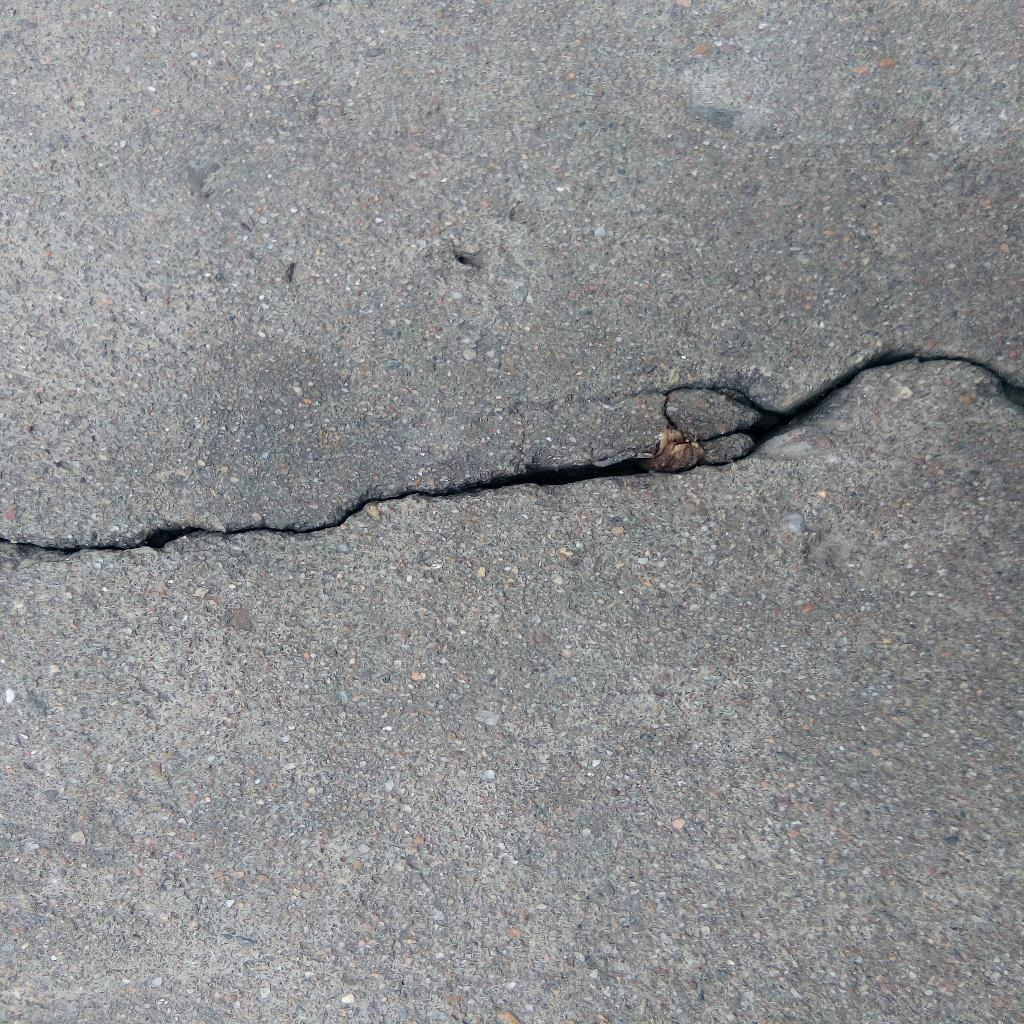Crack: (1, 345, 1024, 558)
